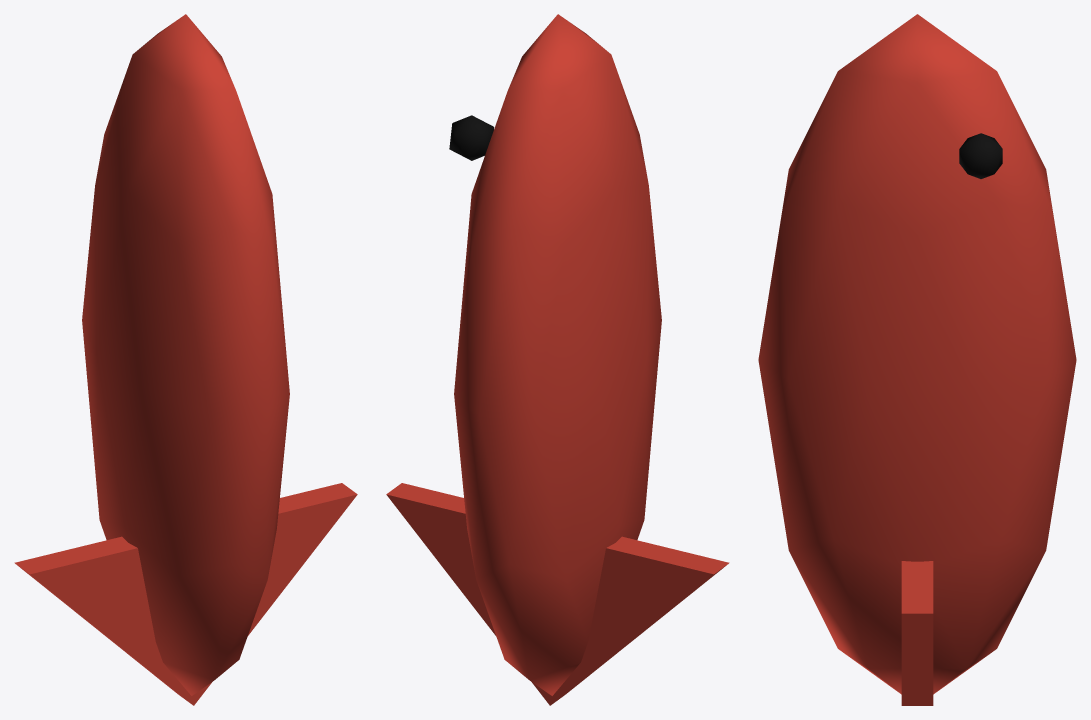
The model's file is red_snapper.glb.
The picture shows the model from 3 angles, left to right: view 1: azimuth 30°, elevation 25°; view 2: azimuth 150°, elevation 25°; view 3: azimuth 270°, elevation 25°; orthographic projection.
Visible parts, largest first — view 1: red_snapper_v0; view 2: red_snapper_v0; view 3: red_snapper_v0.
Boxes of the visible parts, bbox=[...] form: red_snapper_v0: bbox=[14, 14, 357, 705]; red_snapper_v0: bbox=[386, 14, 729, 705]; red_snapper_v0: bbox=[758, 14, 1076, 705].
Size of the model in its own units: 0.12 by 0.24 by 0.1.
